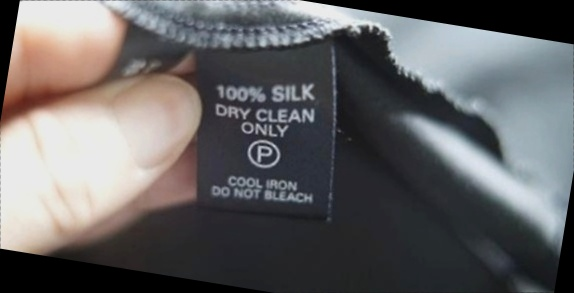dry_clean_any_solvent_except_trichloroethylene: (243, 133, 287, 173)
